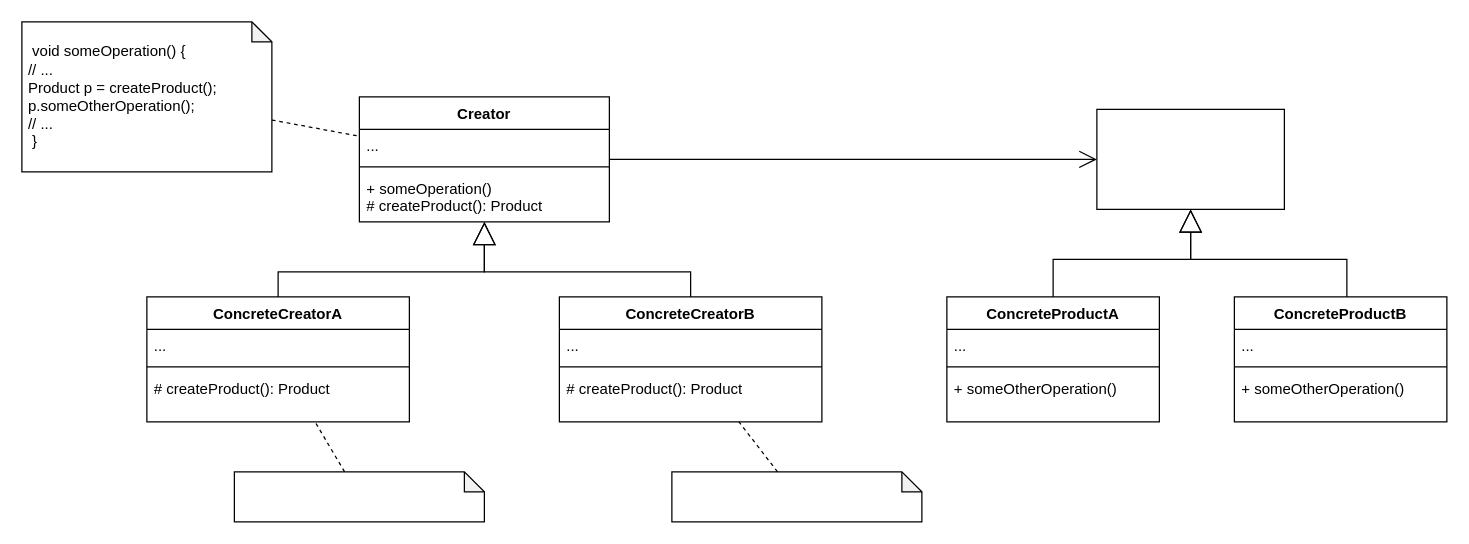
This 1469x544 diagram has some shape labels left out. The shapes that lost their labels are listed below. From the top down, each one's centre as x and y in pixels, then its label:
At point 1190,158: "<<Interface>> Product + someOtherOperation()".
At point 358,496: "return new ConcreteProductA();".
At point 796,496: "return new ConcreteProductB();".
